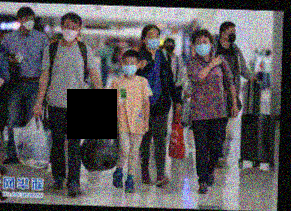with_mask: (60, 21, 78, 42), (193, 36, 211, 56), (121, 58, 137, 76), (145, 30, 160, 49), (21, 14, 35, 30), (223, 26, 236, 43), (163, 42, 174, 53)
